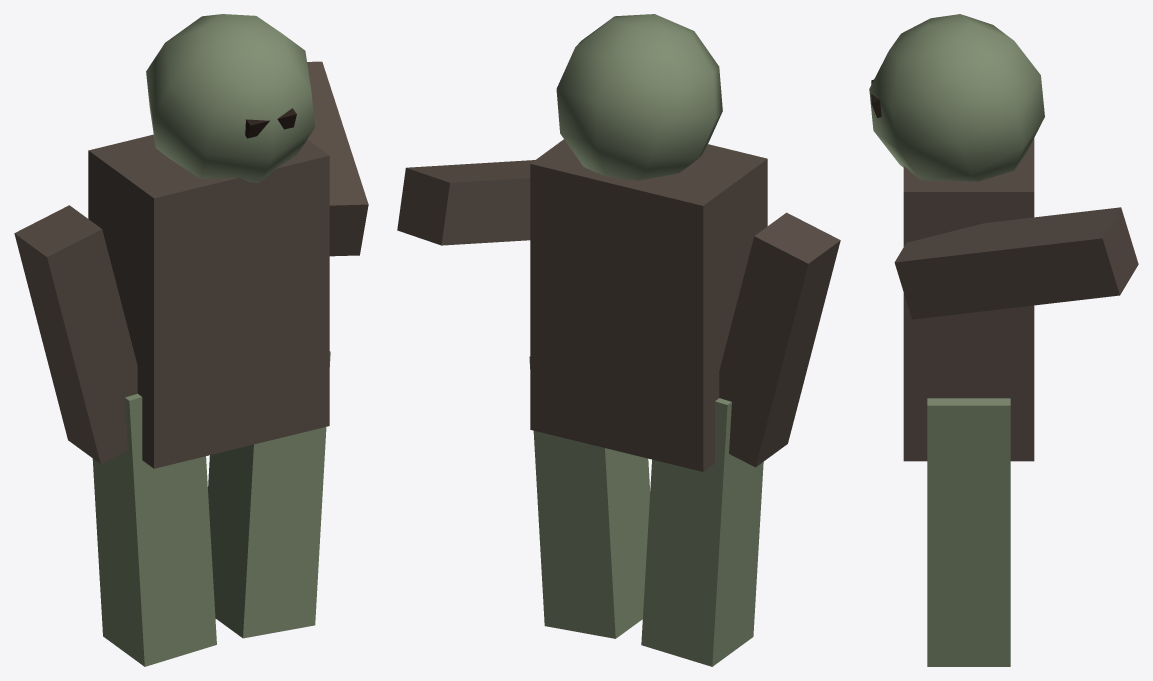
File: zombie.glb
3 renders of one model, left to right at view 1: azimuth 30°, elevation 25°; view 2: azimuth 150°, elevation 25°; view 3: azimuth 270°, elevation 25°, orthographic.
Bounding box in the file's own units: 0.6939 × 1.13 × 0.453.
